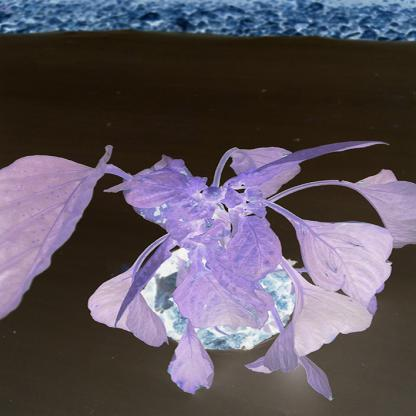Bell_pepper leaf spot: (1, 143, 112, 315), (290, 213, 401, 316), (175, 265, 271, 339), (163, 322, 223, 401), (223, 213, 289, 281), (116, 172, 200, 209)
